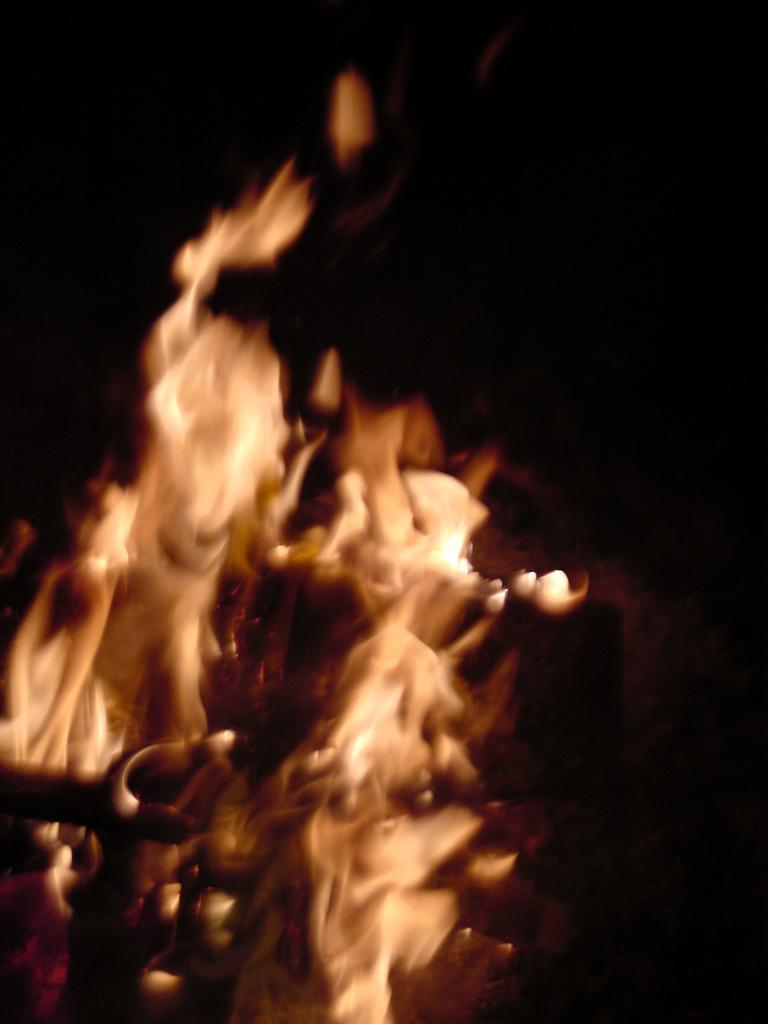fire: (22, 338, 288, 768), (302, 625, 480, 970)
